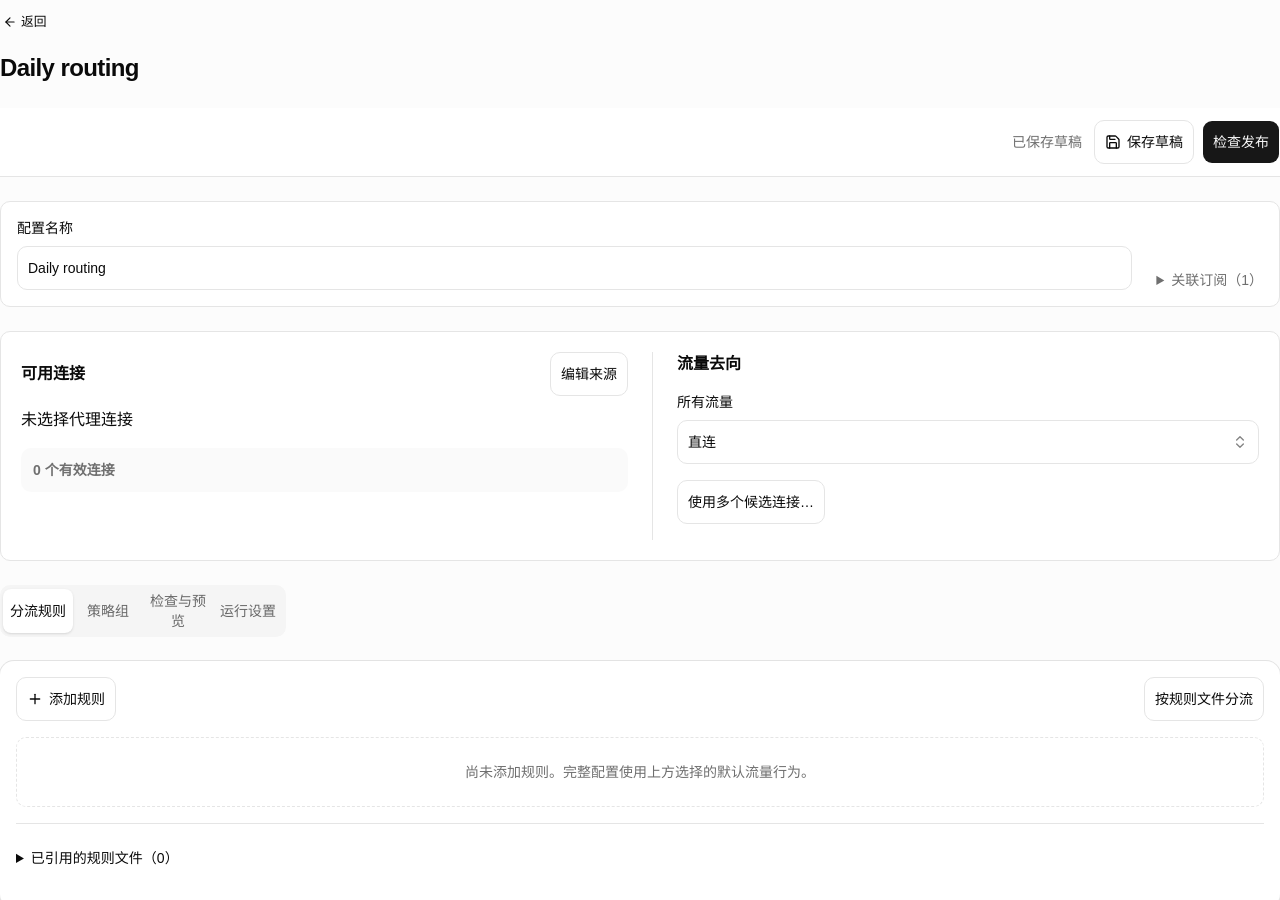
Test case: continues an existing subscription through its output-scoped update preview
Step 1. Click the button "检查发布" → (1241, 142), box [1202,120,1279,164]
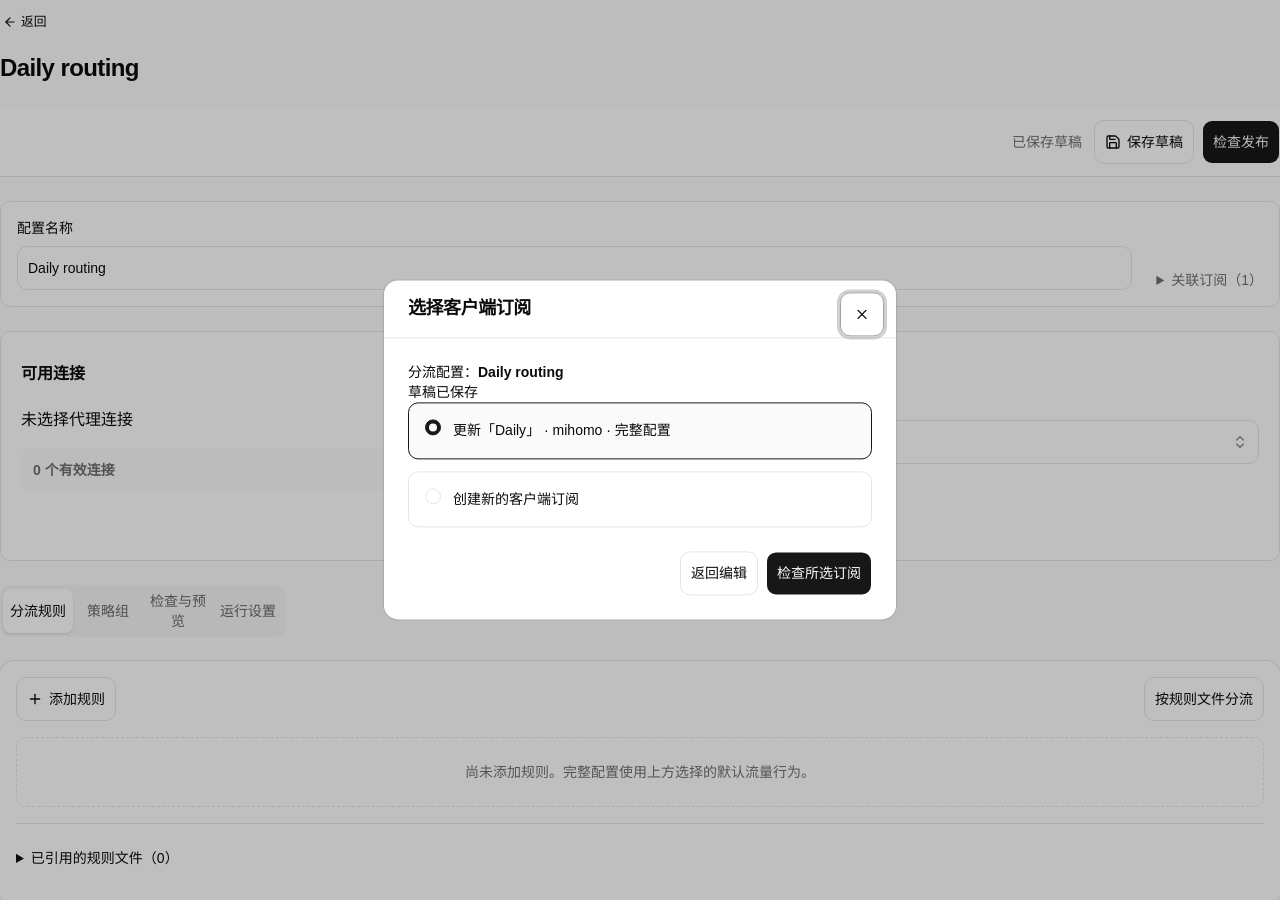
Step 2. Click the button "检查所选订阅" → (819, 574), box [766,552,872,596]
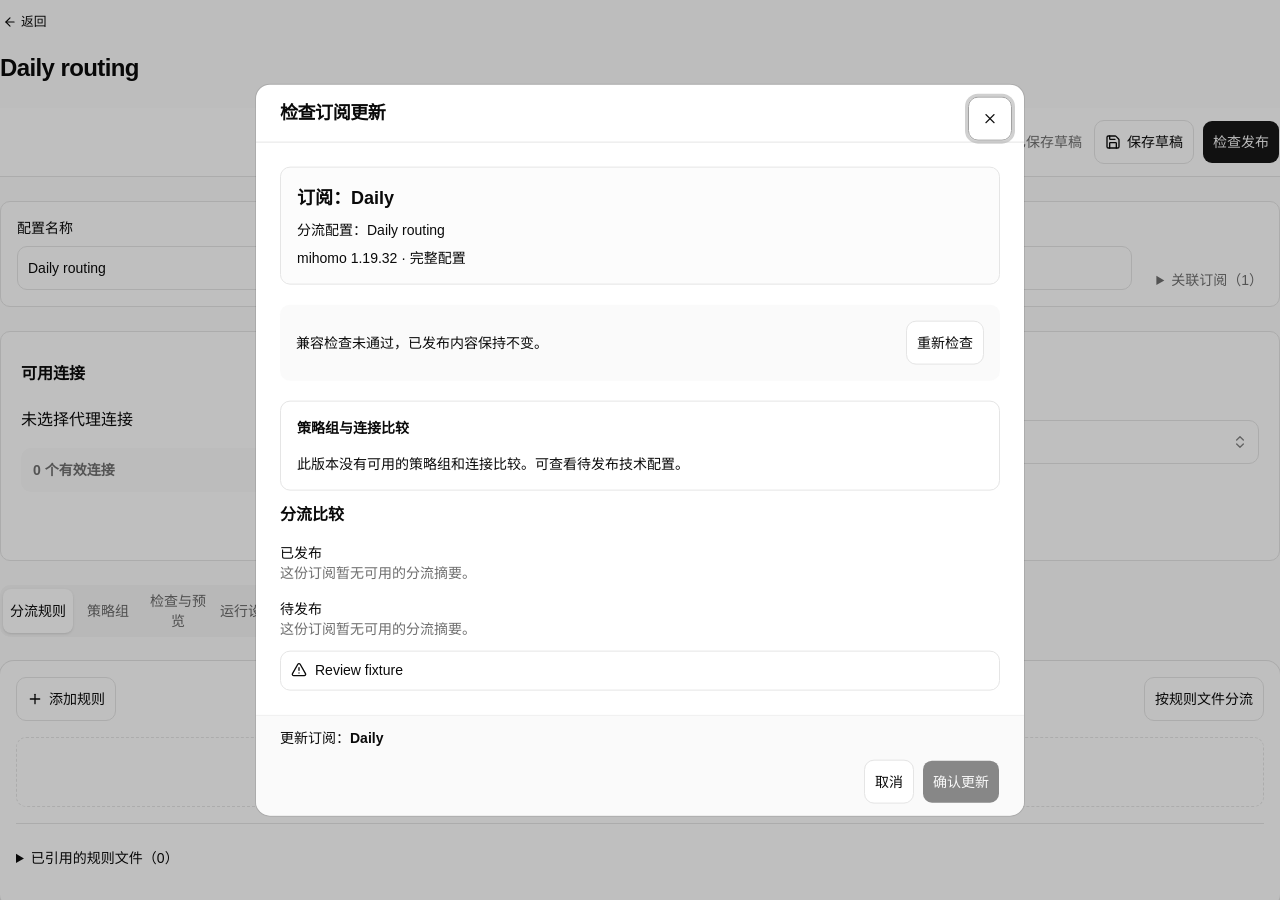
Check: the text "Review fixture" is shown, box [315,661,403,677]
